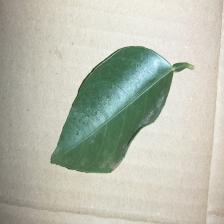healthy: (47, 44, 176, 175)
